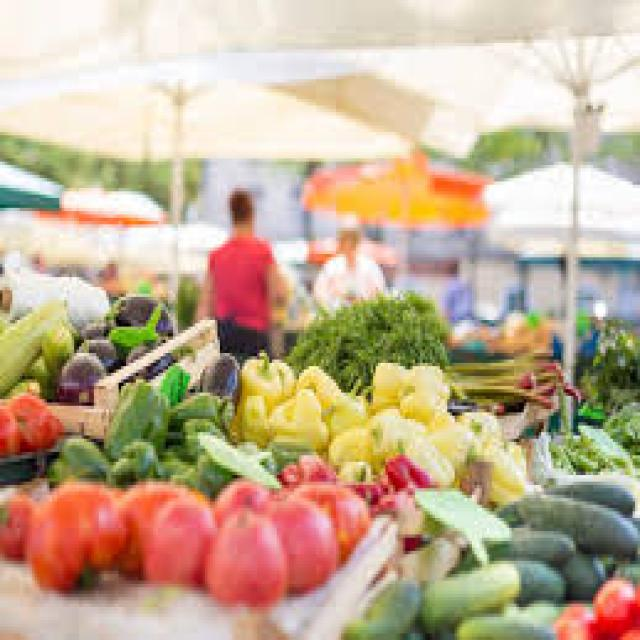biodegradable: (287, 284, 445, 396), (22, 475, 124, 587), (494, 492, 638, 558), (114, 479, 205, 578), (203, 508, 284, 604), (420, 558, 517, 634), (262, 495, 338, 587), (415, 482, 507, 558), (141, 491, 215, 584), (440, 554, 561, 607), (576, 314, 638, 413), (99, 373, 168, 459), (0, 297, 62, 389), (450, 525, 571, 568), (339, 574, 418, 637), (309, 475, 368, 554), (546, 413, 633, 466), (198, 426, 274, 479), (541, 475, 633, 518), (450, 607, 556, 637), (452, 376, 554, 406), (107, 291, 176, 334), (44, 432, 99, 485), (166, 386, 228, 432), (101, 435, 158, 485), (267, 396, 324, 445), (591, 571, 638, 630), (52, 347, 101, 400), (235, 346, 274, 406), (175, 409, 220, 459), (363, 403, 405, 456), (213, 472, 270, 511), (363, 356, 405, 406), (558, 551, 603, 597), (297, 360, 336, 413), (549, 594, 596, 637), (598, 396, 638, 445), (485, 449, 527, 495), (111, 303, 163, 340), (0, 495, 32, 554), (462, 356, 554, 376), (198, 347, 237, 393), (393, 449, 432, 495), (452, 350, 541, 370), (119, 340, 168, 373), (391, 482, 415, 548), (406, 359, 448, 396), (265, 432, 312, 465), (398, 386, 440, 422), (457, 406, 492, 449), (326, 419, 363, 459), (415, 445, 452, 485), (457, 459, 489, 505), (324, 389, 358, 432), (146, 439, 190, 472), (72, 330, 109, 369), (18, 409, 60, 442), (232, 390, 262, 436), (40, 317, 72, 360), (27, 353, 59, 393), (447, 419, 467, 475), (289, 383, 319, 419), (398, 416, 425, 455), (381, 455, 405, 498), (178, 274, 200, 320), (430, 409, 455, 449), (272, 356, 296, 396), (8, 373, 40, 402), (297, 445, 324, 475), (611, 554, 638, 584), (341, 482, 376, 505), (0, 416, 20, 452), (532, 373, 564, 393), (10, 393, 39, 413), (277, 455, 297, 482), (0, 396, 15, 425), (509, 369, 534, 386), (77, 317, 109, 330), (616, 620, 638, 637), (373, 485, 388, 508), (559, 376, 574, 399), (0, 303, 7, 323)
